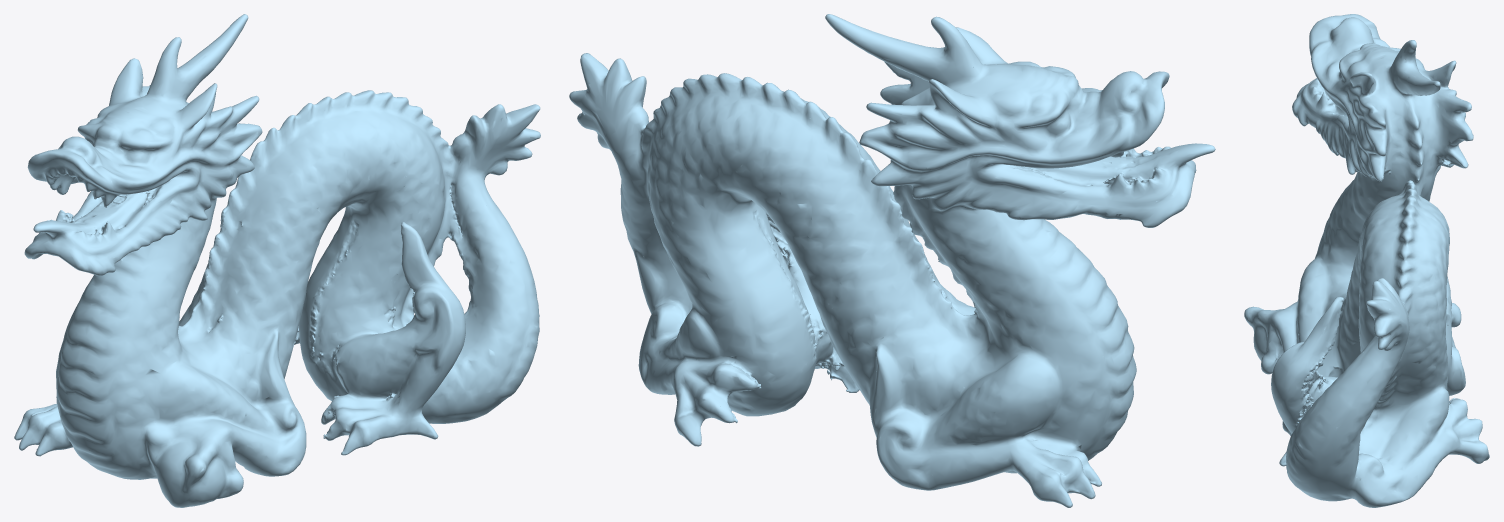
Rendered from stanford-dragon.gltf.
3 renders of one model, left to right at view 1: azimuth 30°, elevation 25°; view 2: azimuth 150°, elevation 25°; view 3: azimuth 270°, elevation 25°, orthographic. The views are drawn at different scales.
Parts seen in each view (by area): view 1: default; view 2: default; view 3: default.
Part boxes in pixels (box(x1,y1,x2,y2)): default: box(14, 14, 540, 507); default: box(569, 14, 1215, 507); default: box(1244, 14, 1489, 507).
Size of what is drawn, in the model's own units: 14.09 by 9.94 by 6.3.
